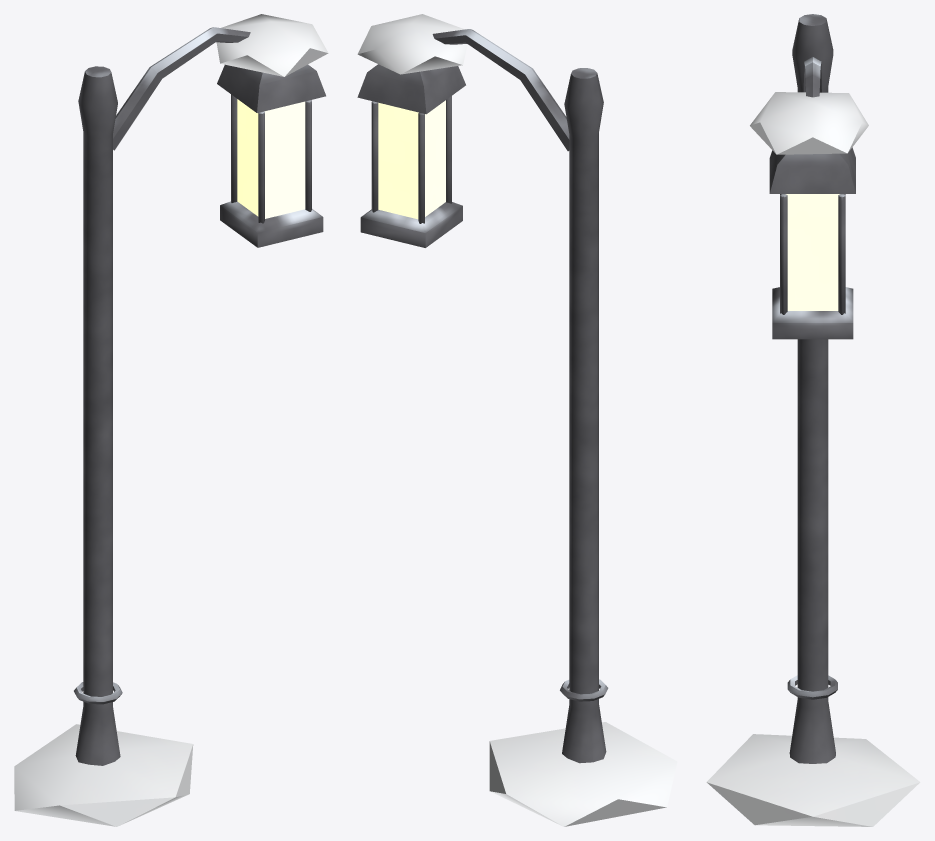
Rendered from lantern_post.gltf.
3 renders of one model, left to right at view 1: azimuth 30°, elevation 25°; view 2: azimuth 150°, elevation 25°; view 3: azimuth 270°, elevation 25°, orthographic. The views are drawn at different scales.
Parts seen in each view (by area): view 1: lantern_post; view 2: lantern_post; view 3: lantern_post.
Boxes of the visible parts, x1=… form: lantern_post: x1=14, y1=14, x2=328, y2=826; lantern_post: x1=357, y1=14, x2=677, y2=826; lantern_post: x1=706, y1=14, x2=920, y2=826.
Bounding box in the file's own units: 1.03 × 2.47 × 0.5974.
1 material, 1 textured.
